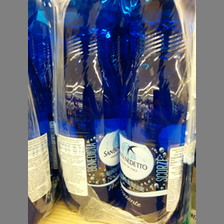water: (121, 1, 185, 221), (62, 1, 122, 206)
